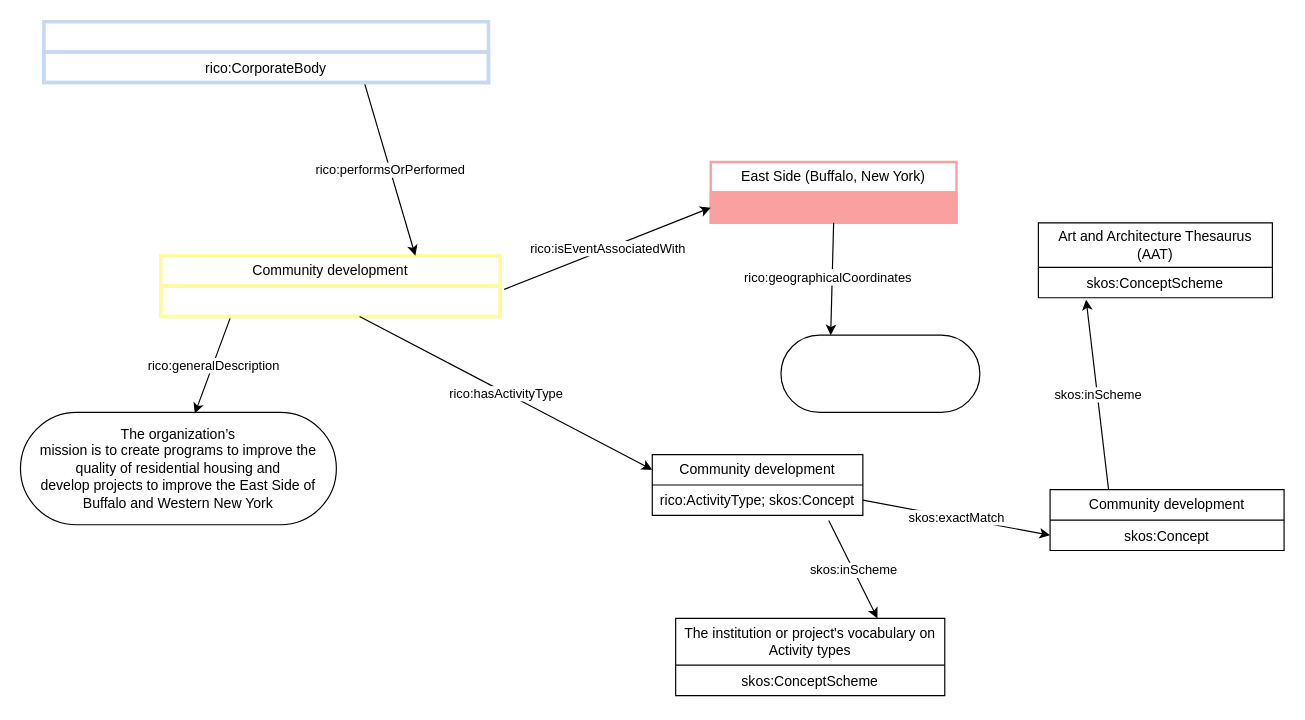
Some shapes in this 1305 by 720 pixel diagram are drawn without their labels. The shapes that lost their labels are listed below. From the top down, each one's box as (x1, y1, x2, y2) in pixels, then its label:
(42, 19, 490, 84): Lt. Col. Matt Urban Human Services Center of Western New York
(709, 191, 957, 223): rico:Place
(159, 284, 501, 318): rico:Activity
(780, 334, 980, 412): N 42°53′48" W 78°50′2" [WGS84]
